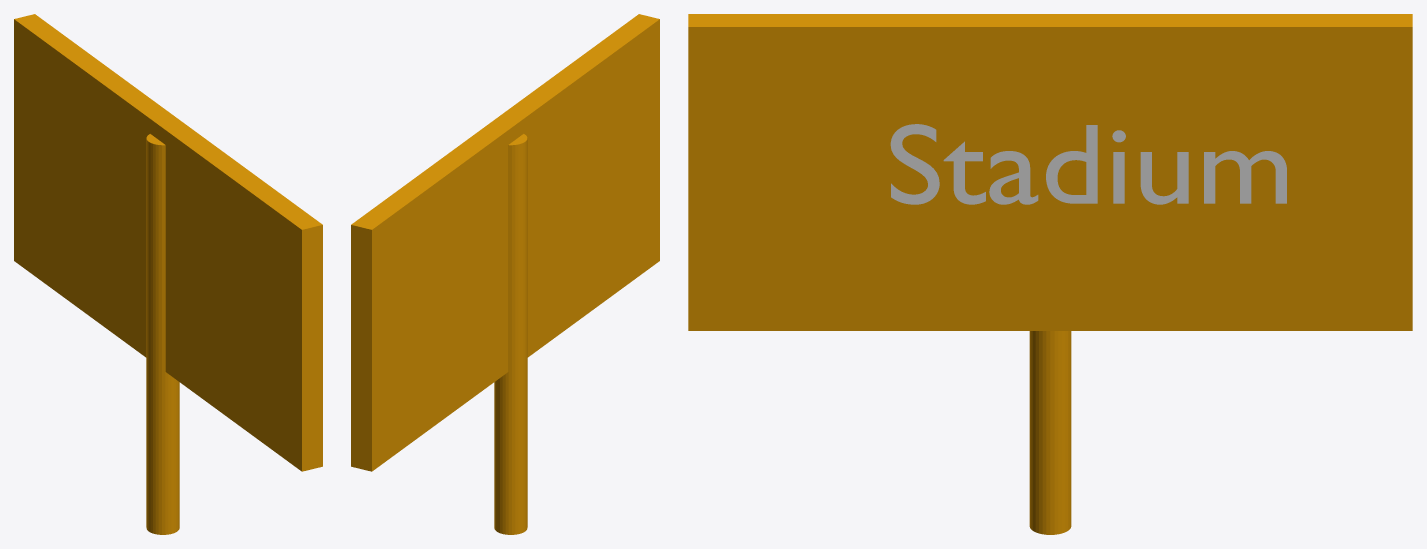
The model's file is Kyltti18.fbx.
3 renders of one model, left to right at view 1: azimuth 30°, elevation 25°; view 2: azimuth 150°, elevation 25°; view 3: azimuth 270°, elevation 25°, orthographic. The views are drawn at different scales.
Visible parts, largest first — view 1: Kyltti18, Cylinder.017; view 2: Kyltti18, Cylinder.017; view 3: Kyltti18, Text.019, Cylinder.017.
Boxes of the visible parts, x1,y1,x2,y2 form: Kyltti18: [14, 14, 322, 471]; Cylinder.017: [146, 134, 179, 534]; Kyltti18: [351, 14, 659, 471]; Cylinder.017: [494, 134, 527, 534]; Kyltti18: [688, 14, 1412, 330]; Text.019: [890, 124, 1286, 204]; Cylinder.017: [1029, 331, 1071, 534].
Bounding box in the file's own units: 36.68 × 442 × 570.
